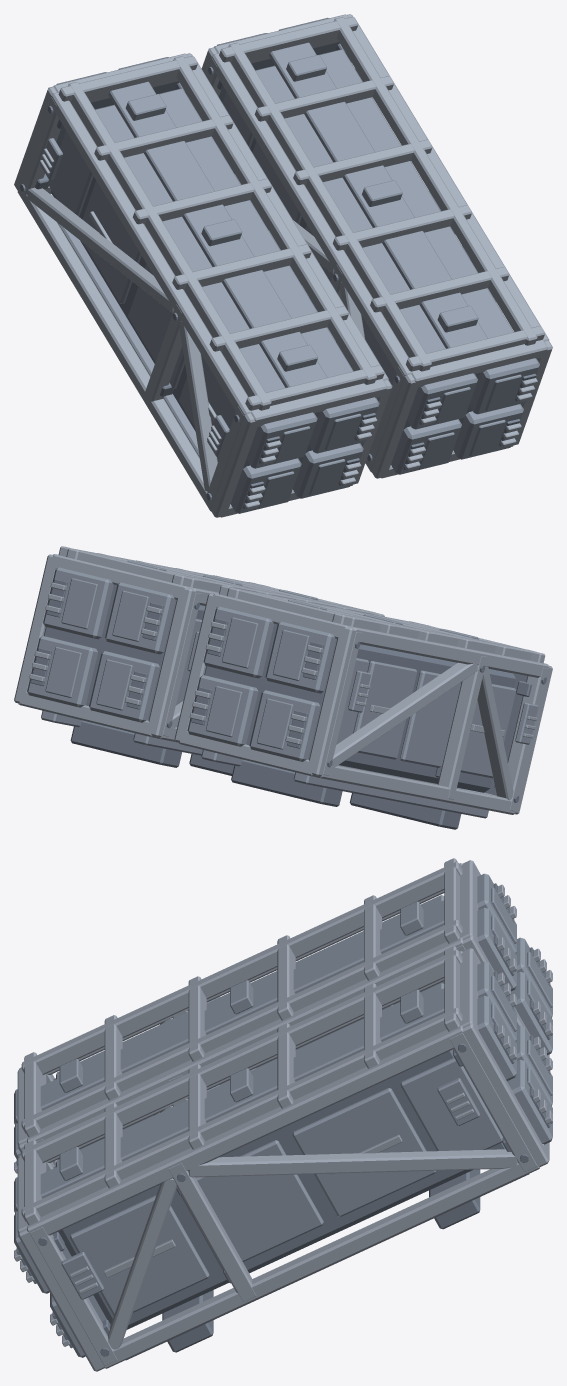
Rendered from warden-pod-b-pod-v1.glb.
3 views of the same model, one above another, from view 1: azimuth 30°, elevation 25°; view 2: azimuth 150°, elevation 25°; view 3: azimuth 270°, elevation 25° (orthographic). The views are drawn at different scales.
Parts seen in each view (by area): view 1: CassetteLeft_B, CassetteRight_B; view 2: CassetteLeft_B, CassetteRight_B; view 3: CassetteRight_B, CassetteLeft_B.
Boxes of the visible parts, <box> form: CassetteLeft_B: <box>14,53,392,517</box>; CassetteRight_B: <box>191,14,552,478</box>; CassetteLeft_B: <box>174,585,552,829</box>; CassetteRight_B: <box>14,546,384,775</box>; CassetteRight_B: <box>14,946,552,1371</box>; CassetteLeft_B: <box>14,858,552,1173</box>.
Bounding box in the file's own units: 1.45 × 1.37 × 1.89.
